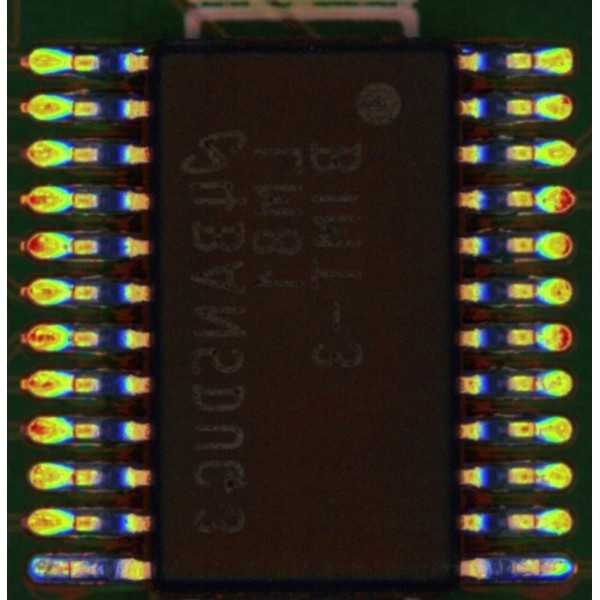Bad_podu: (531, 561, 550, 574), (60, 563, 78, 576)
